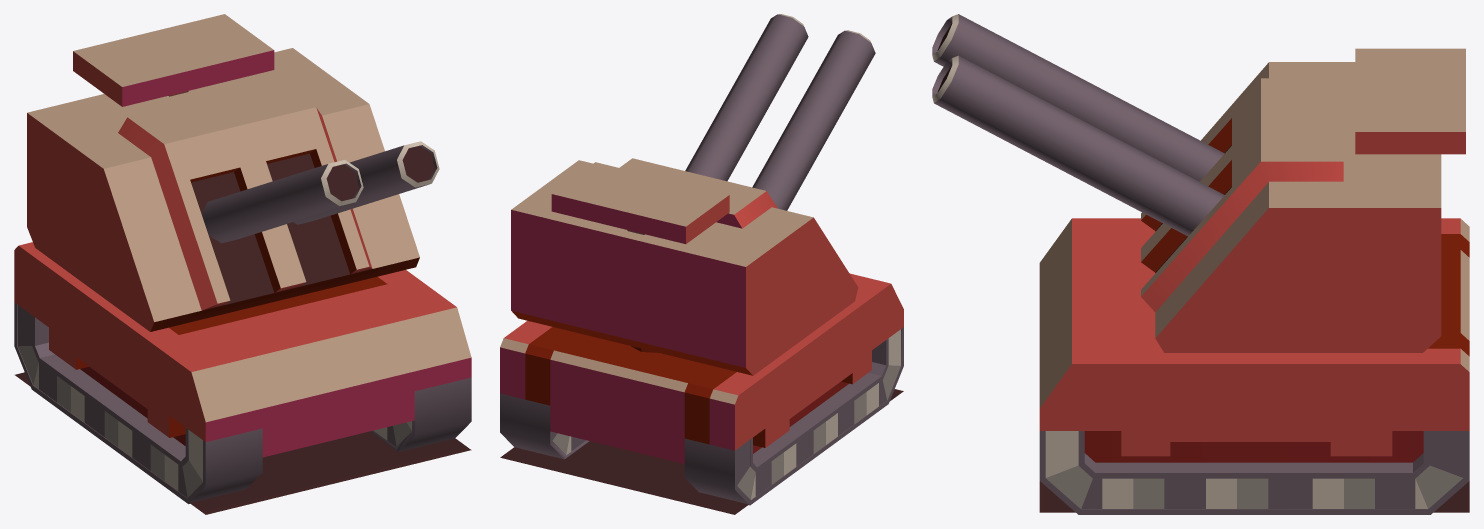
File: AntiAirMesh.RedFire.glb
3 views of the same model, side by side, from view 1: azimuth 30°, elevation 25°; view 2: azimuth 150°, elevation 25°; view 3: azimuth 270°, elevation 25° (orthographic). The views are drawn at different scales.
Visible parts, largest first — view 1: AntiAirMesh.RedFire; view 2: AntiAirMesh.RedFire; view 3: AntiAirMesh.RedFire.
Part boxes in pixels (bbox=[...]): AntiAirMesh.RedFire: bbox=[14, 14, 471, 514]; AntiAirMesh.RedFire: bbox=[500, 14, 903, 514]; AntiAirMesh.RedFire: bbox=[932, 14, 1469, 514].
Bounding box in the file's own units: 1.4 × 1.8 × 2.18.
Materials: 1 (1 with a texture image).
